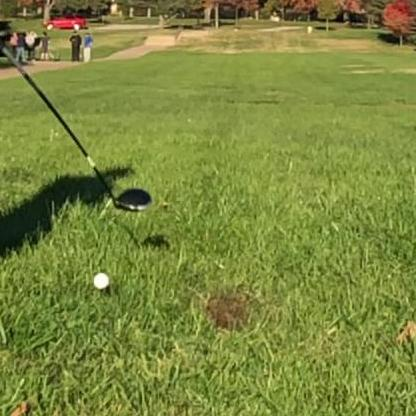golfball: (91, 268, 108, 287)
